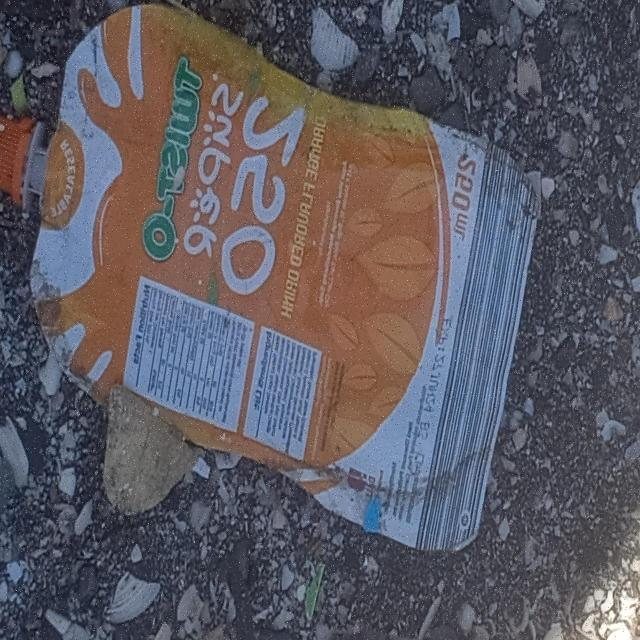plastic_waste: (2, 5, 541, 555)
